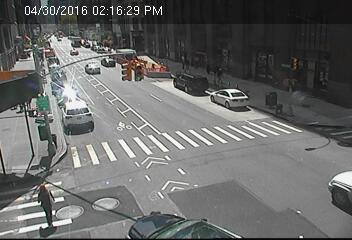neg: (136, 154, 157, 183), (156, 106, 173, 129), (240, 191, 257, 213), (264, 120, 281, 142), (97, 50, 113, 71), (58, 78, 73, 98), (28, 39, 42, 58), (201, 140, 215, 159), (69, 98, 83, 115), (266, 34, 278, 50), (68, 41, 79, 56), (149, 58, 159, 71)
pos: (26, 181, 64, 230), (214, 68, 228, 86), (204, 64, 213, 76)
